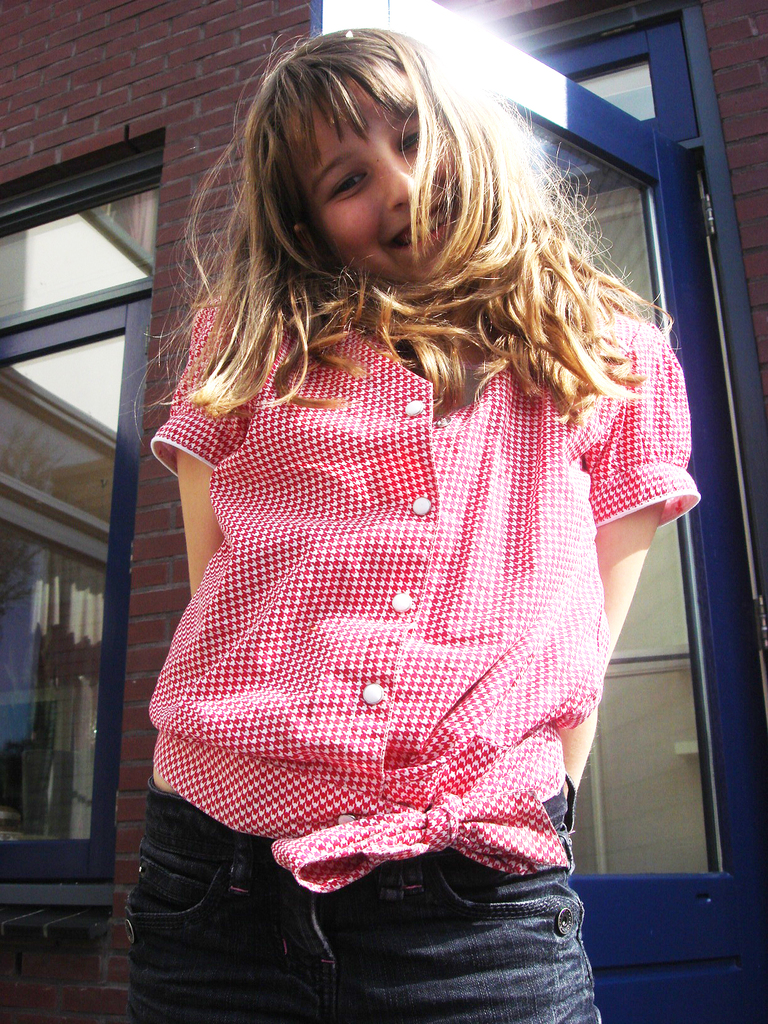Human-face: (295, 75, 470, 285)
